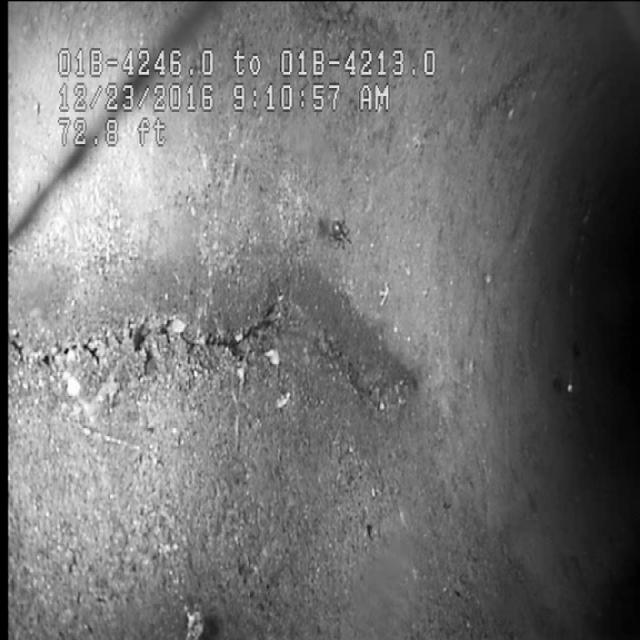Crack: (17, 272, 417, 448)
